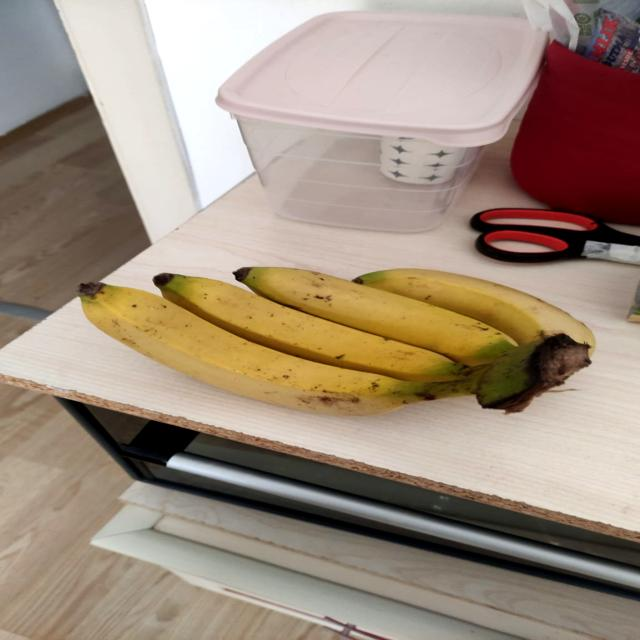banana: (63, 235, 610, 420)
